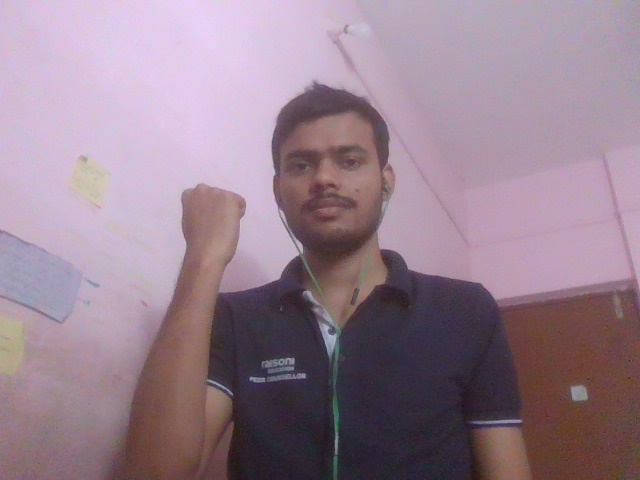Yes: (97, 117, 319, 366)
